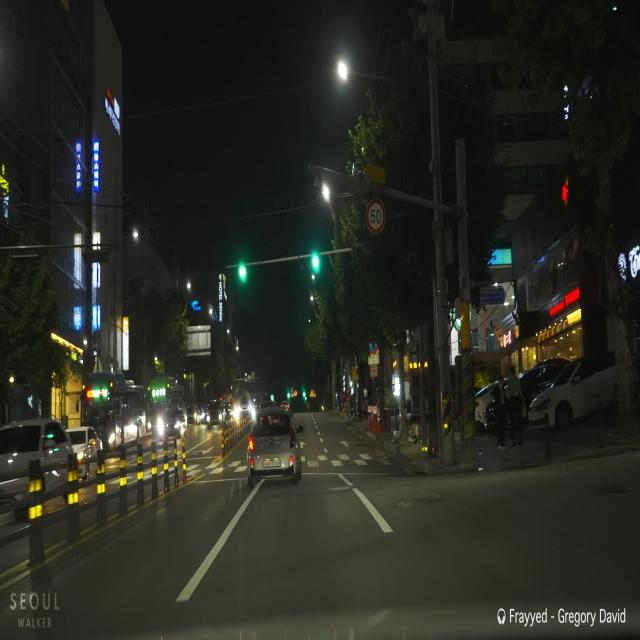Green Light: (239, 265, 246, 279), (312, 254, 319, 266)
